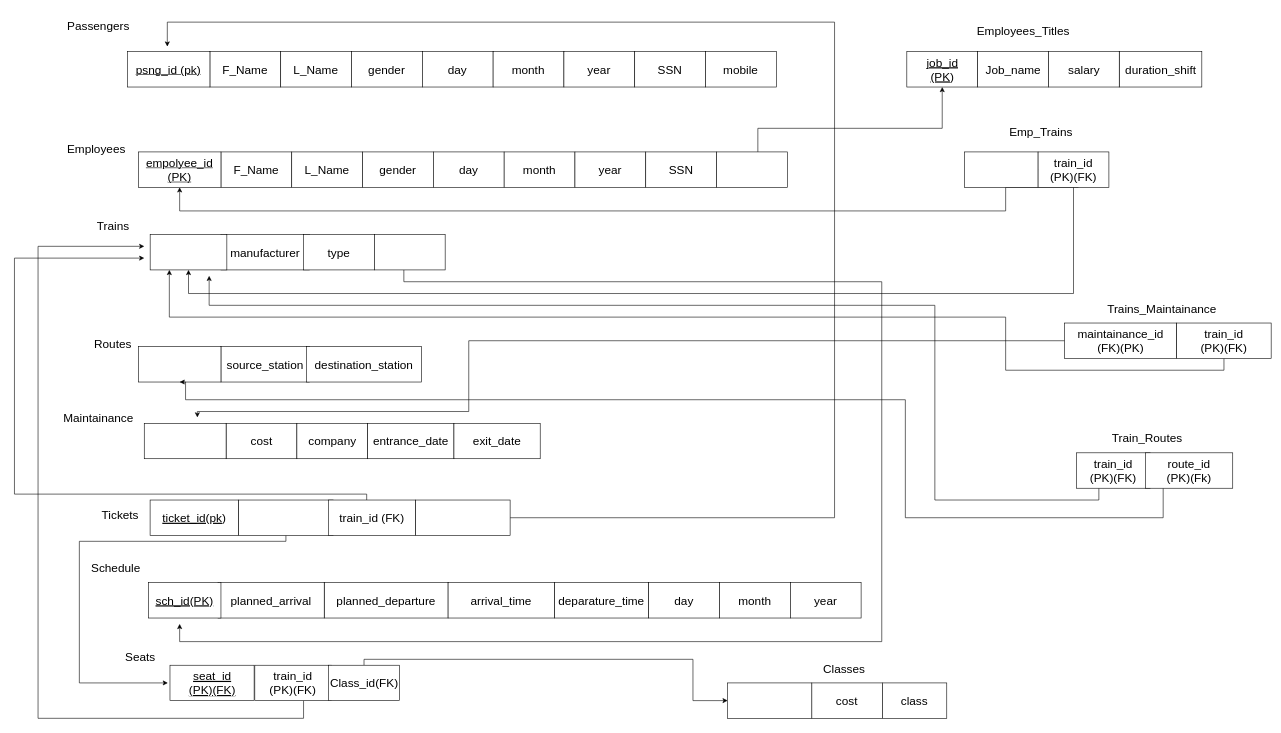
The diagram is 1281 pixels wide and 733 high, and some of its shapes have lost their labels. Here are the shapes that lost their labels. From the top down, the box of each, then its label:
(716, 151, 787, 187): job_id (FK)
(964, 151, 1038, 187): empolyee_id (FK)(PK)
(150, 234, 227, 270): Train_id (pk)
(374, 234, 445, 270): Sch_id (FK)
(138, 346, 221, 382): route_id (pk)
(144, 423, 226, 459): maint_id (pk)
(238, 499, 333, 535): seat_id (FK)
(415, 499, 510, 535): psng_id (FK)
(727, 682, 812, 718): Class_id (PK)
